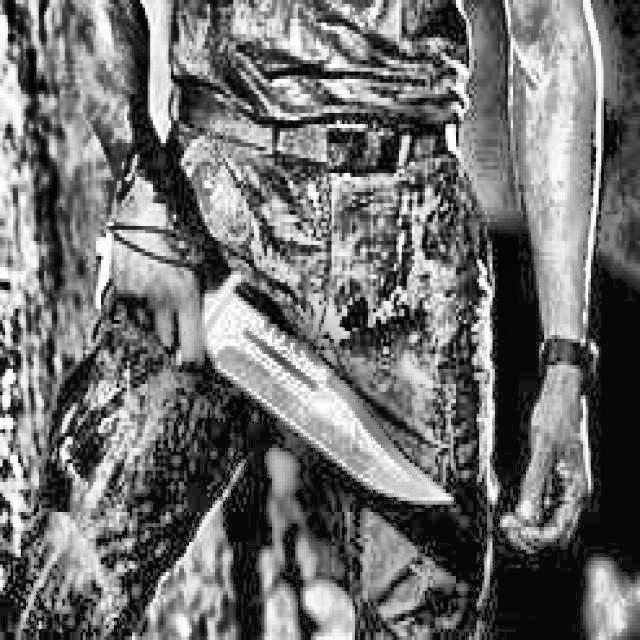knife: (94, 239, 450, 505)
